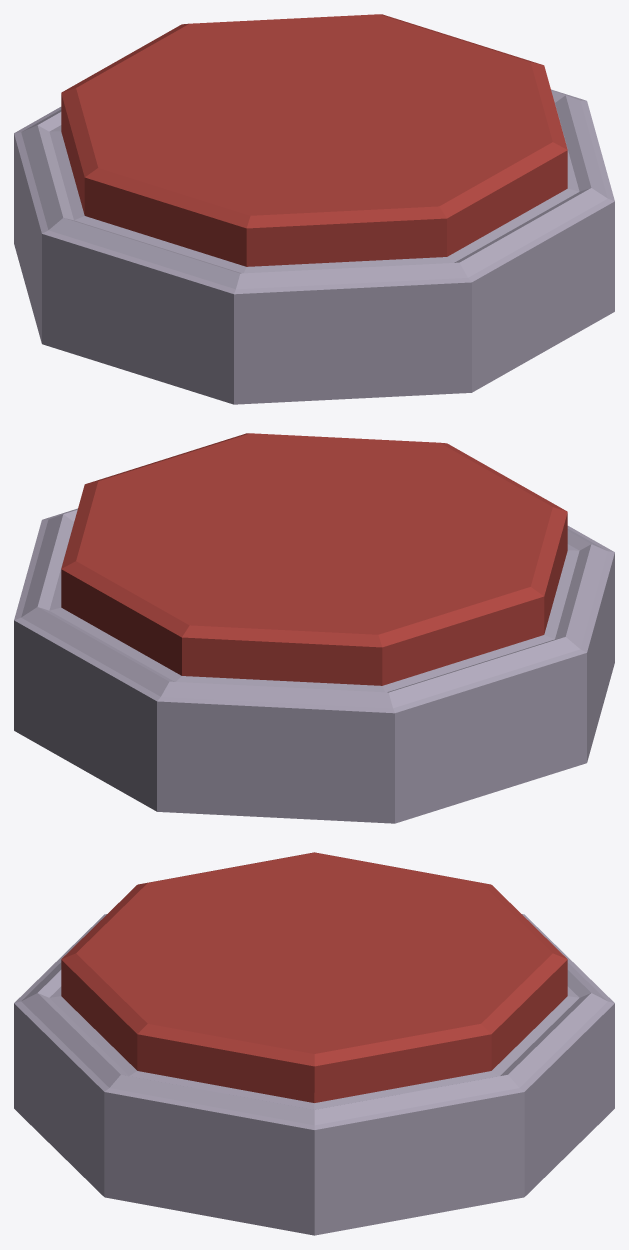
File: Button.glb
The picture shows the model from 3 angles, top to bottom: view 1: azimuth 30°, elevation 25°; view 2: azimuth 150°, elevation 25°; view 3: azimuth 270°, elevation 25°; orthographic projection. The views are drawn at different scales.
Visible parts, largest first — view 1: ButtonButton, Buttonbase; view 2: ButtonButton, Buttonbase; view 3: ButtonButton, Buttonbase.
Boxes of the visible parts, x1,y1,x2,y2 form: ButtonButton: (61, 14, 567, 266); Buttonbase: (14, 89, 614, 404); ButtonButton: (61, 433, 567, 685); Buttonbase: (14, 508, 614, 823); ButtonButton: (61, 852, 567, 1102); Buttonbase: (14, 914, 614, 1235).
Size of the model in its own units: 0.5615 by 0.1601 by 0.5615.
